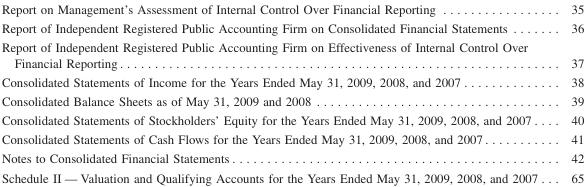table: (0, 1, 583, 184)
table column: (0, 1, 553, 184), (553, 1, 583, 184)
table row: (0, 37, 583, 71), (0, 90, 583, 110), (0, 18, 583, 37), (0, 71, 583, 90), (0, 110, 583, 129), (0, 129, 583, 148), (0, 148, 583, 167), (0, 1, 583, 18), (0, 167, 583, 184)
